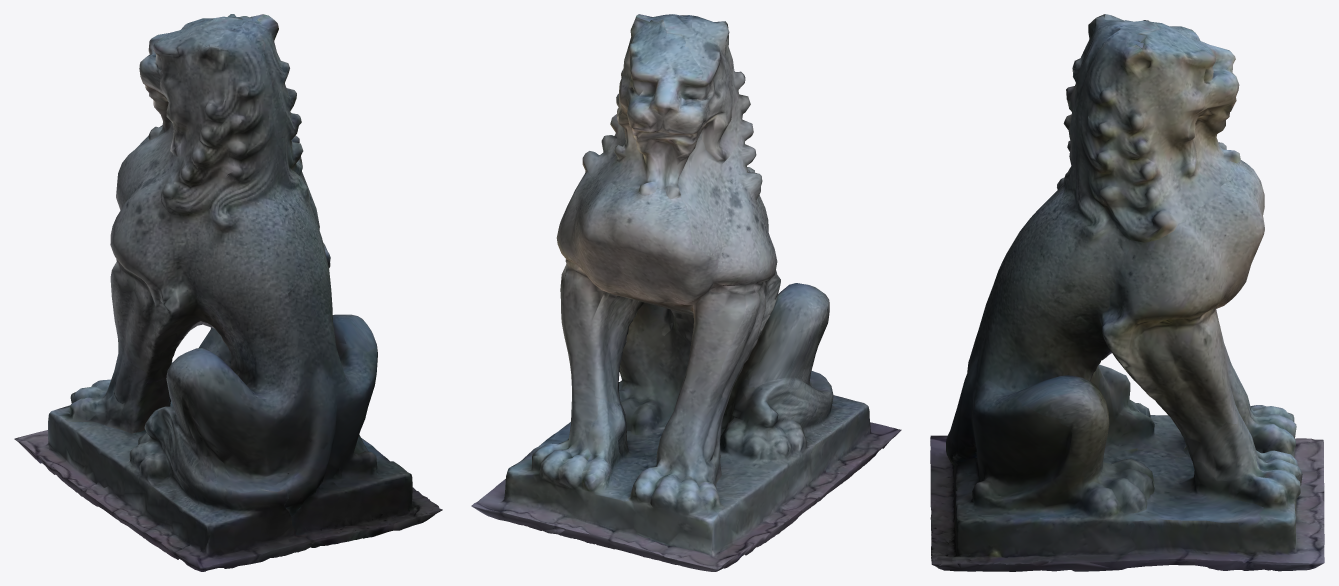
The model's file is komainu-un.glb.
The picture shows the model from 3 angles, left to right: view 1: azimuth 30°, elevation 25°; view 2: azimuth 150°, elevation 25°; view 3: azimuth 270°, elevation 25°; orthographic projection. The views are drawn at different scales.
Visible parts, largest first — view 1: Object_2; view 2: Object_2; view 3: Object_2.
Boxes of the visible parts, x1,y1,x2,y2 form: Object_2: (14,14,442,571); Object_2: (471,14,901,571); Object_2: (930,14,1324,571).
Bounding box in the file's own units: 2.97 × 5.32 × 3.86.
1 material, 1 textured.
